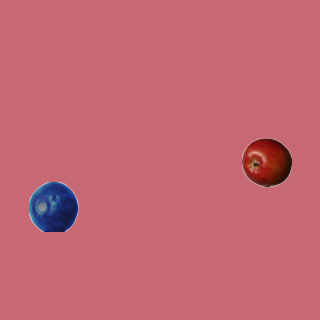Apple Braeburn: (241, 137, 291, 187)
Huckleberry: (28, 181, 78, 231)
